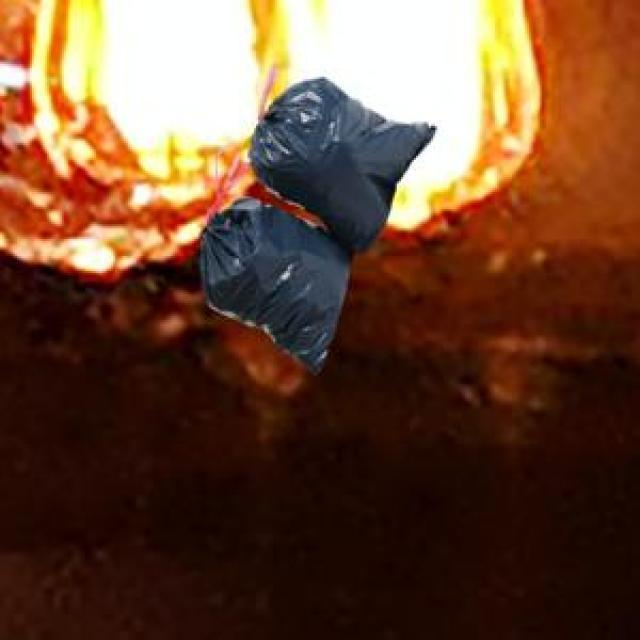waste: (200, 78, 436, 372)
